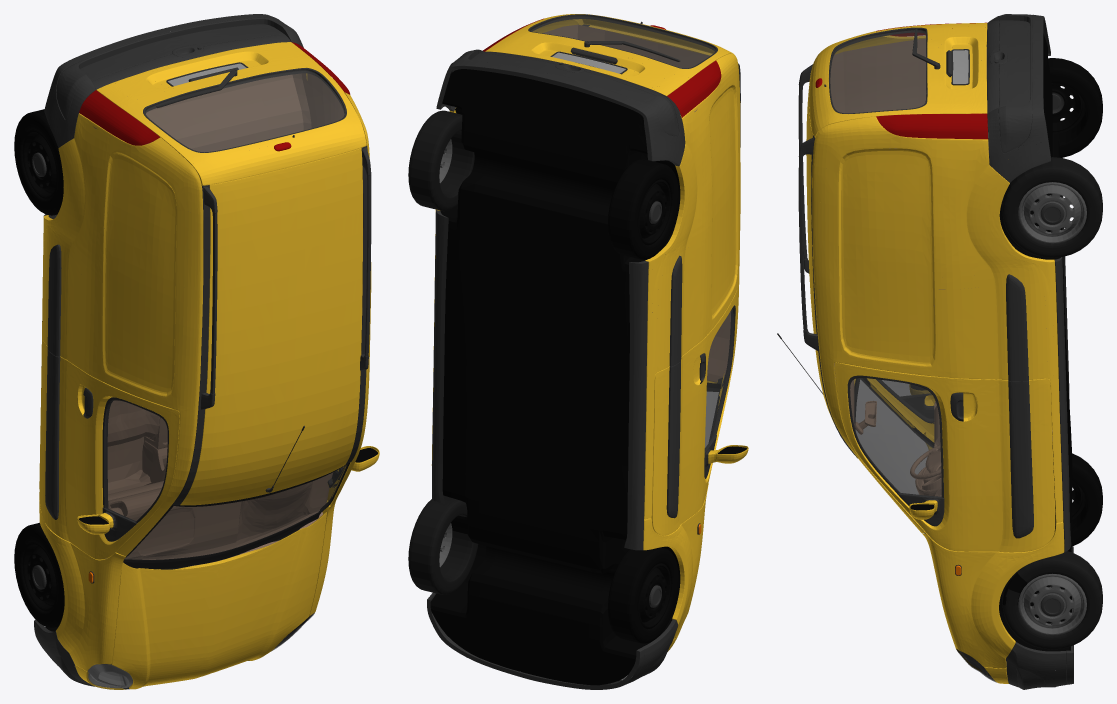
Rendered from Renault Kango Optimized.glb.
3 views of the same model, side by side, from view 1: azimuth 30°, elevation 25°; view 2: azimuth 150°, elevation 25°; view 3: azimuth 270°, elevation 25° (orthographic). The views are drawn at different scales.
Parts seen in each view (by area): view 1: Node3, Node4, Node1, Node8, Node11, Node2, Node10, Node6, Node7, Node5, Node9; view 2: Node8, Node4, Node3, Node6, Node5, Node2, Node7, Node11, Node1; view 3: Node2, Node1, Node8, Node5, Node11, Node6, Node7, Node4, Node3, Node10.
Boxes of the visible parts, box(x1,y1,x2,y2) form: Node3: box(39, 28, 289, 689); Node4: box(39, 58, 304, 583); Node1: box(165, 15, 370, 676); Node8: box(34, 68, 379, 671); Node11: box(79, 42, 350, 558); Node2: box(39, 14, 371, 671); Node10: box(107, 401, 332, 566); Node6: box(14, 62, 248, 686); Node7: box(34, 17, 345, 684); Node5: box(123, 146, 371, 689); Node9: box(87, 613, 314, 688); Node8: box(427, 14, 748, 689); Node4: box(570, 21, 740, 535); Node3: box(548, 27, 740, 651); Node6: box(451, 51, 678, 676); Node5: box(408, 24, 740, 680); Node2: box(432, 14, 708, 639); Node7: box(427, 50, 735, 689); Node11: box(483, 18, 730, 382); Node1: box(431, 16, 662, 503); Node2: box(809, 60, 1055, 552); Node1: box(806, 52, 1071, 683); Node8: box(829, 27, 1073, 686); Node5: box(798, 64, 1102, 649); Node11: box(830, 22, 1046, 496); Node6: box(951, 49, 1102, 689); Node7: box(847, 14, 1073, 687); Node4: box(777, 23, 1052, 675); Node3: box(806, 14, 1069, 449); Node10: box(854, 401, 1052, 496).
Bounding box in the file's own units: 0.0484 × 0.1 × 0.0484.
